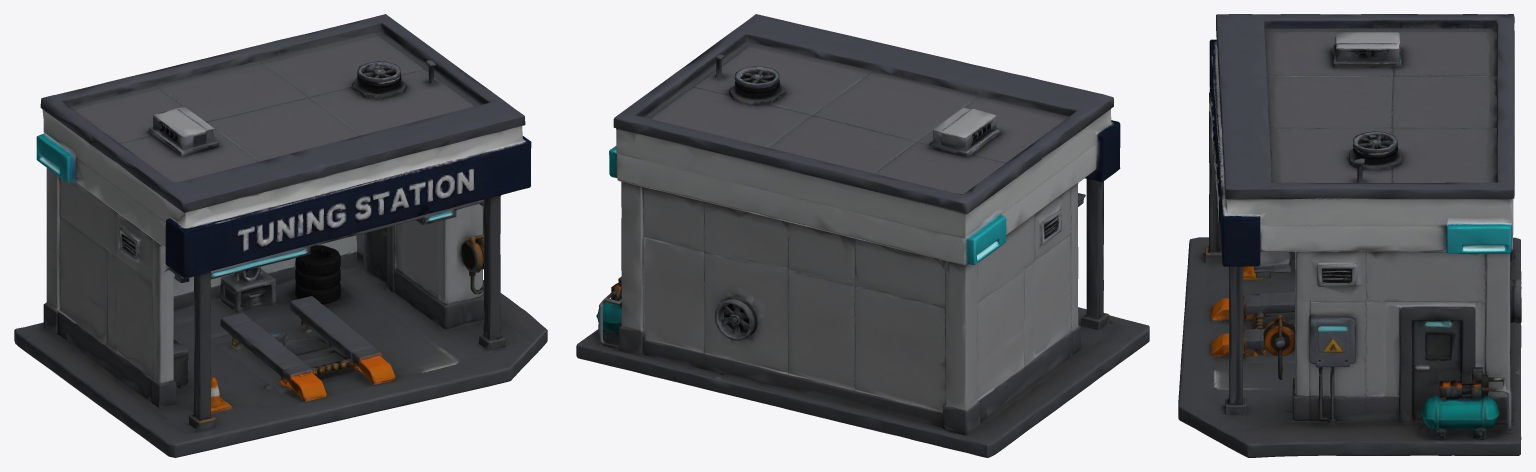
The model's file is tuning_station_1k_real.glb.
3 views of the same model, side by side, from view 1: azimuth 30°, elevation 25°; view 2: azimuth 150°, elevation 25°; view 3: azimuth 270°, elevation 25° (orthographic). The views are drawn at different scales.
Parts seen in each view (by area): view 1: tripo_node_d529bed5-5239-48c8-8959-65f83f97b72b; view 2: tripo_node_d529bed5-5239-48c8-8959-65f83f97b72b; view 3: tripo_node_d529bed5-5239-48c8-8959-65f83f97b72b.
Part boxes in pixels (box(x1,y1,x2,y2)): tripo_node_d529bed5-5239-48c8-8959-65f83f97b72b: box(14, 14, 547, 457); tripo_node_d529bed5-5239-48c8-8959-65f83f97b72b: box(576, 14, 1149, 457); tripo_node_d529bed5-5239-48c8-8959-65f83f97b72b: box(1178, 14, 1521, 457).
Size of the model in its own units: 1 by 0.6054 by 0.7053.
Materials: 1 (1 with a texture image).
